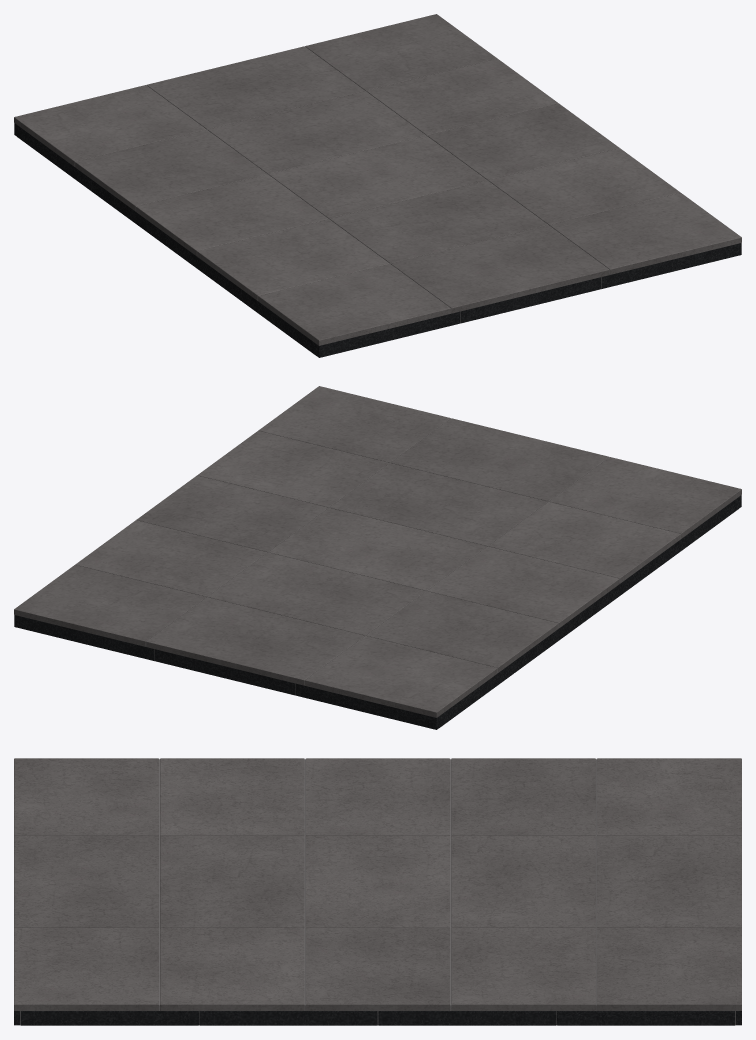
The model's file is floor-graphite-standard.glb.
3 views of the same model, one above another, from view 1: azimuth 30°, elevation 25°; view 2: azimuth 150°, elevation 25°; view 3: azimuth 270°, elevation 25° (orthographic). The views are drawn at different scales.
Visible parts, largest first — view 1: Stone_field_graphite, Stone_edge_graphite; view 2: Stone_field_graphite, Stone_edge_graphite; view 3: Stone_field_graphite, Stone_edge_graphite, Joint_and_bedding_graphite.
Boxes of the visible parts, x1,y1,x2,y2 form: Stone_field_graphite: (14, 14, 741, 345); Stone_edge_graphite: (14, 123, 741, 357); Stone_field_graphite: (14, 386, 741, 717); Stone_edge_graphite: (14, 495, 741, 729); Stone_field_graphite: (14, 758, 741, 1010); Stone_edge_graphite: (14, 1011, 741, 1025); Joint_and_bedding_graphite: (20, 759, 735, 1025).
Bounding box in the file's own units: 2.4 × 0.096 × 3.
3 materials, 2 textured.
